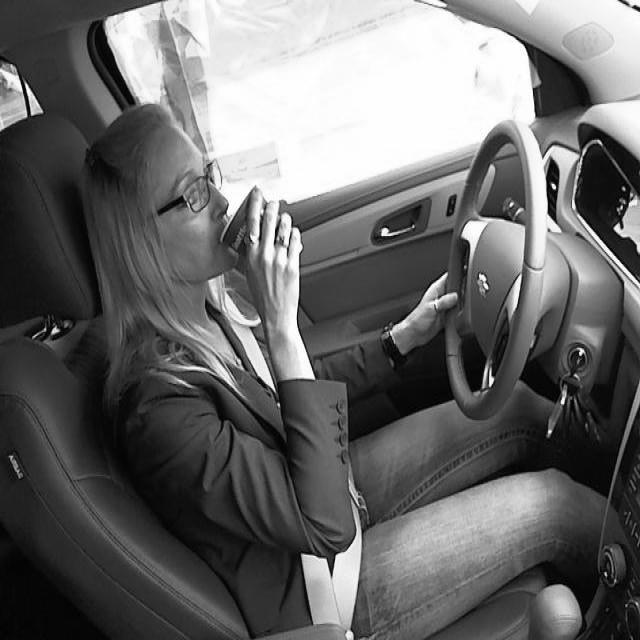Drinking: (223, 189, 301, 275)
